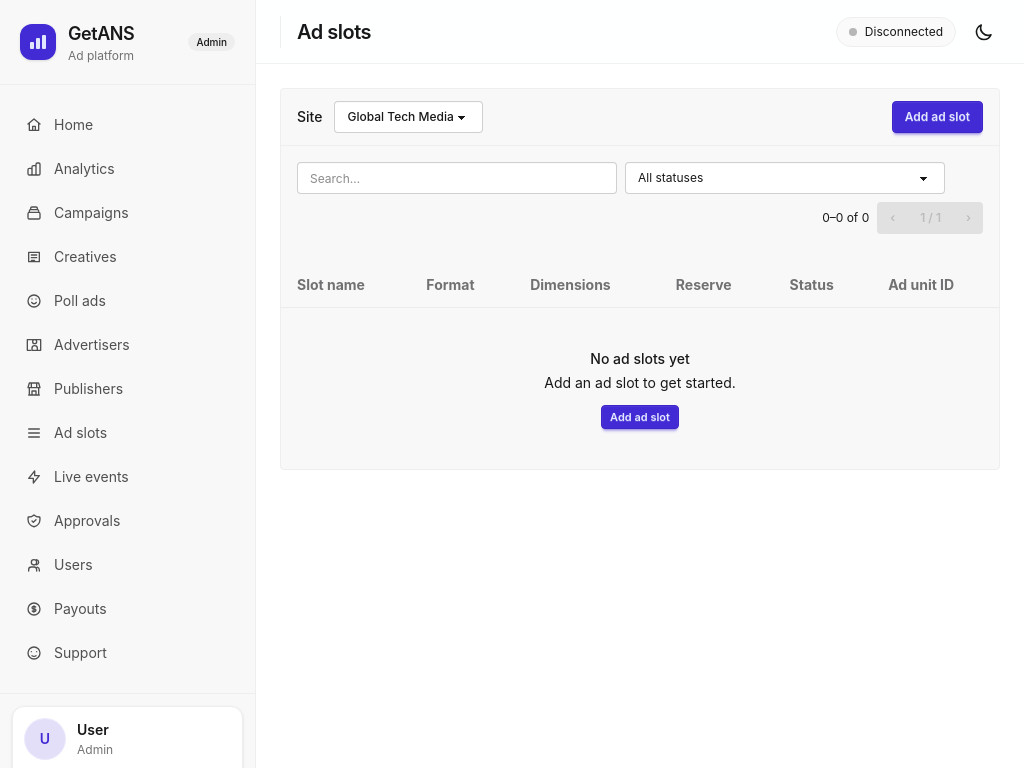
PublishersPage gaps › uses a generic message when creating an ad slot rejects with a non-Error
Check: the text "No ad slots yet" is shown, box x1=590 y1=350 x2=690 y2=367
Step 1. Click the button "Add ad slot" in the row of "Site" → x=937, y=117, box x1=892 y1=101 x2=983 y2=133
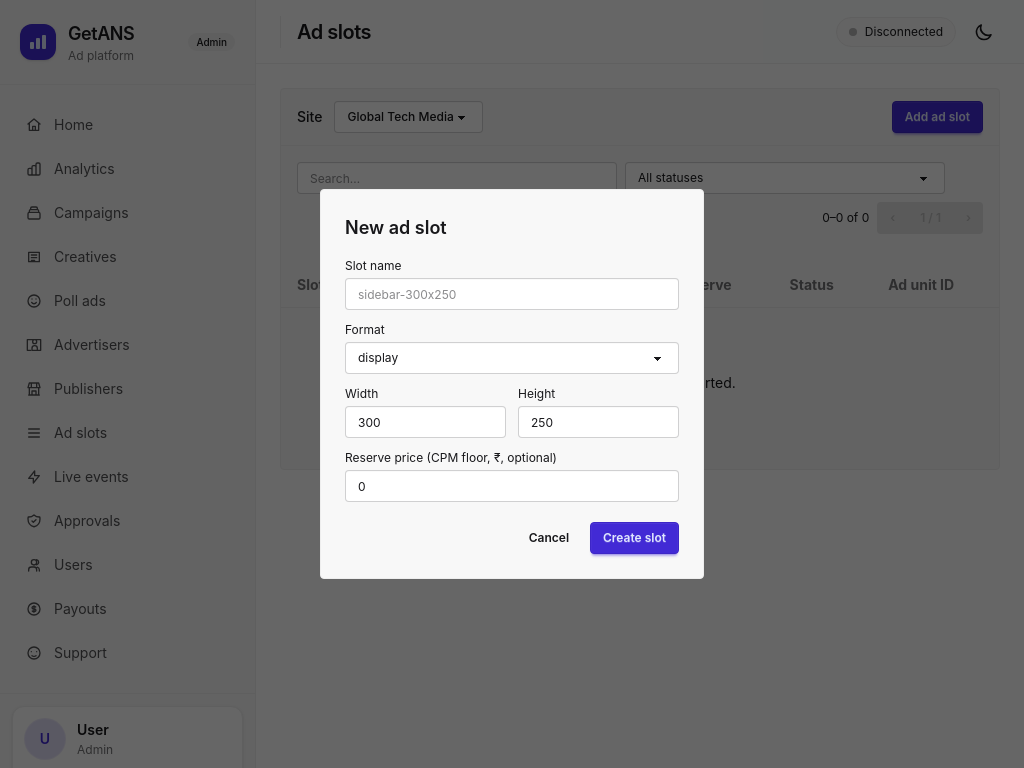
Step 2. Type "x" into the field labelled "Slot name" → x=512, y=294, box x1=345 y1=278 x2=679 y2=310
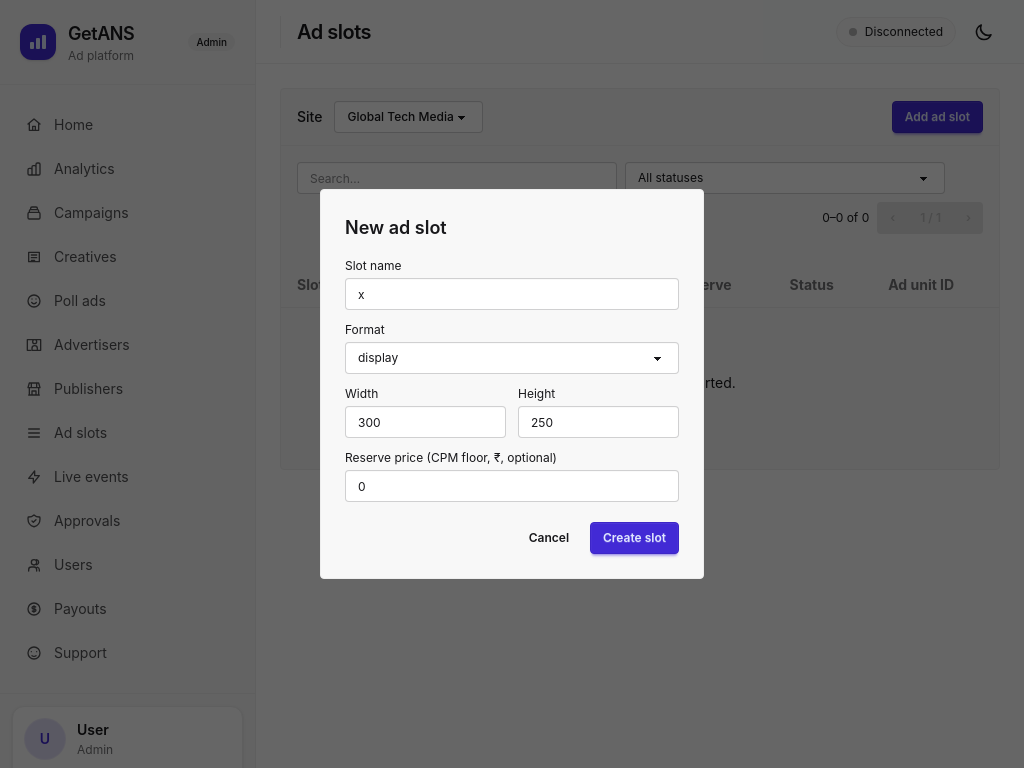
Step 3. Submit the form named "Create slot", box x1=345 y1=258 x2=679 y2=554
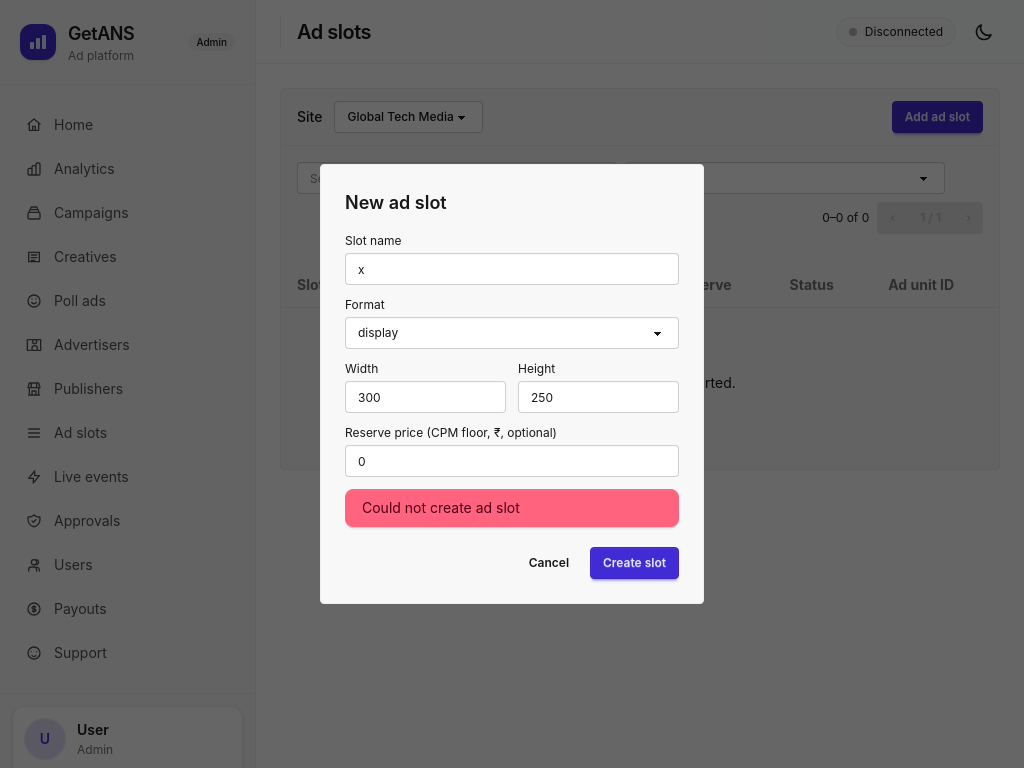
Check: the message reads "Could not create ad slot", box x1=362 y1=499 x2=520 y2=516
